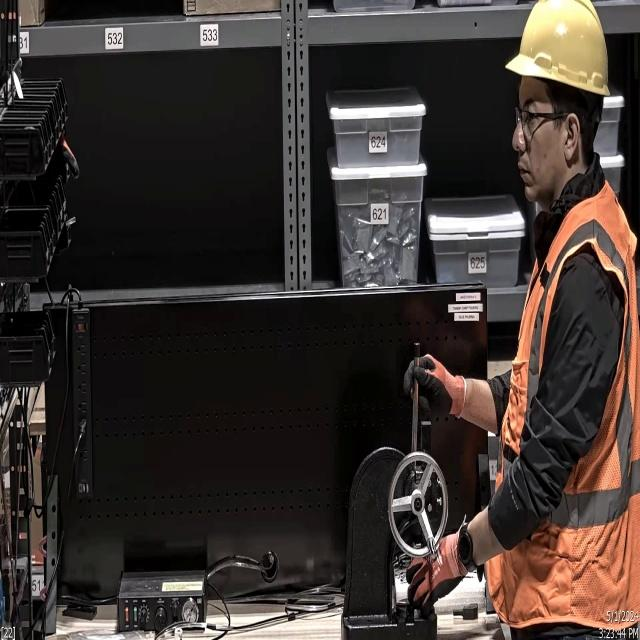gloves: (397, 526, 468, 618)
